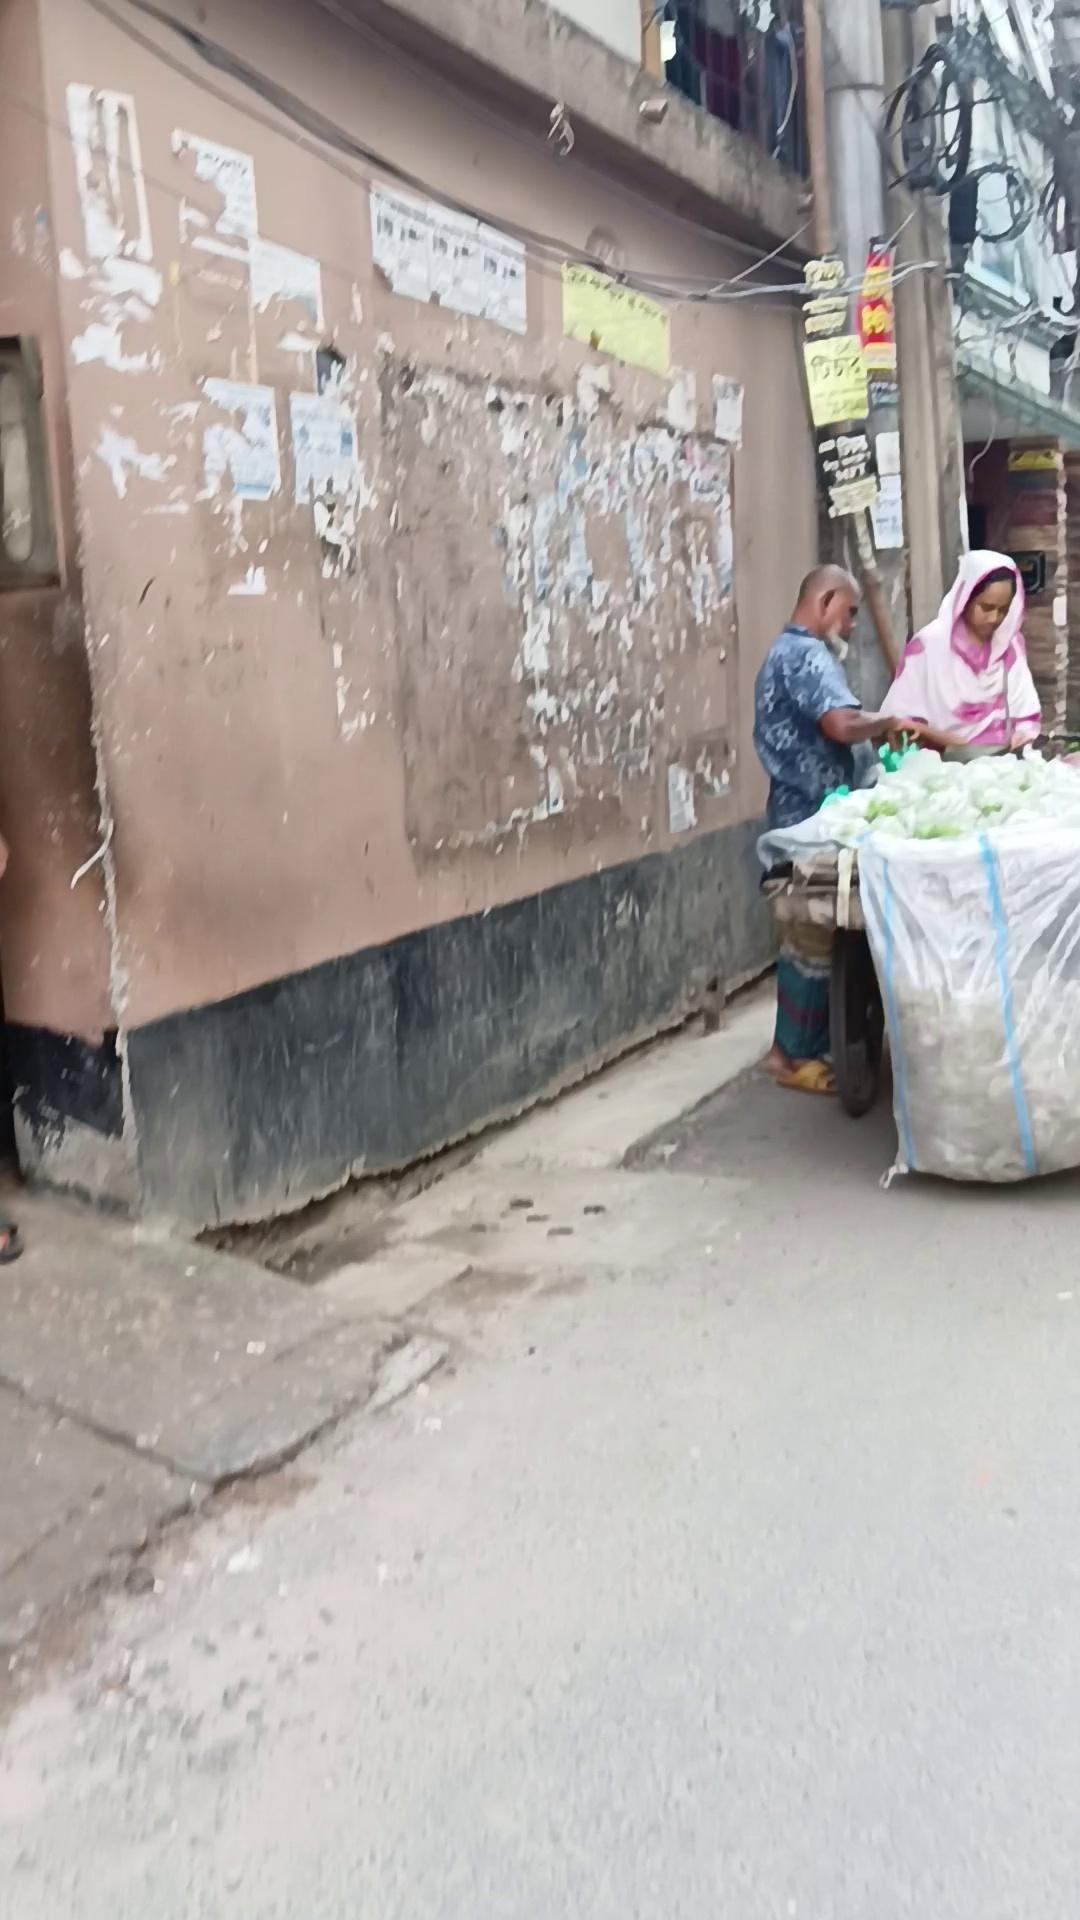Crosswalk: (186, 952, 781, 1261)
Muddy road: (750, 562, 928, 1095), (876, 549, 1040, 764)
Potted-plant: (3, 971, 1076, 1916)
